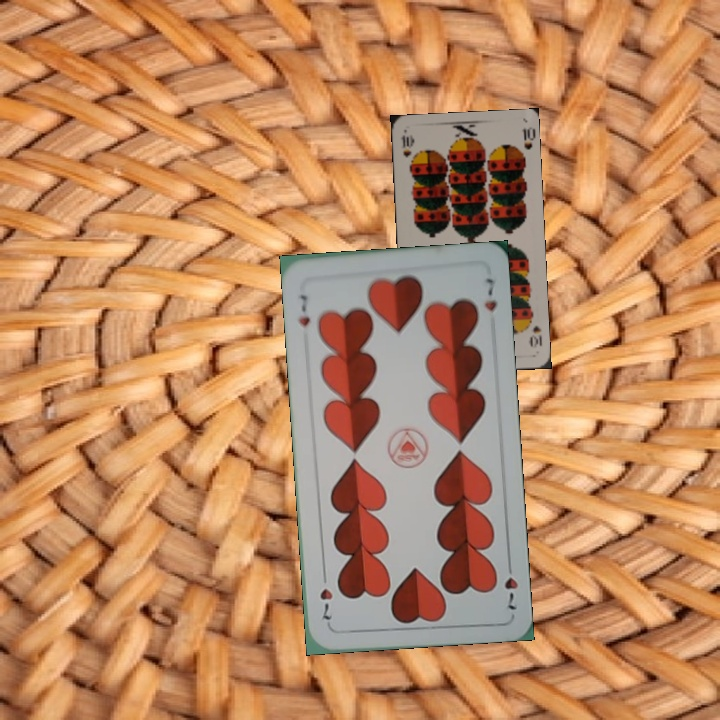H7: (500, 556, 520, 613), (295, 290, 313, 329)
S10: (524, 312, 545, 350), (396, 131, 415, 160)
